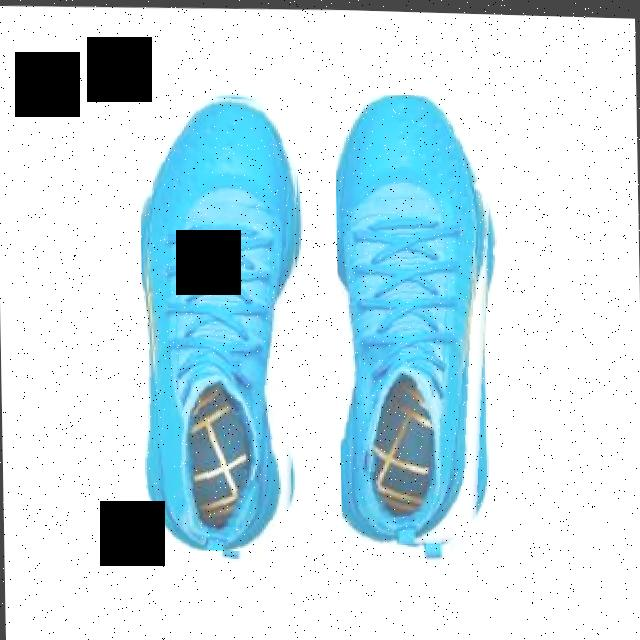shoe: (138, 87, 306, 552), (334, 89, 502, 550)
